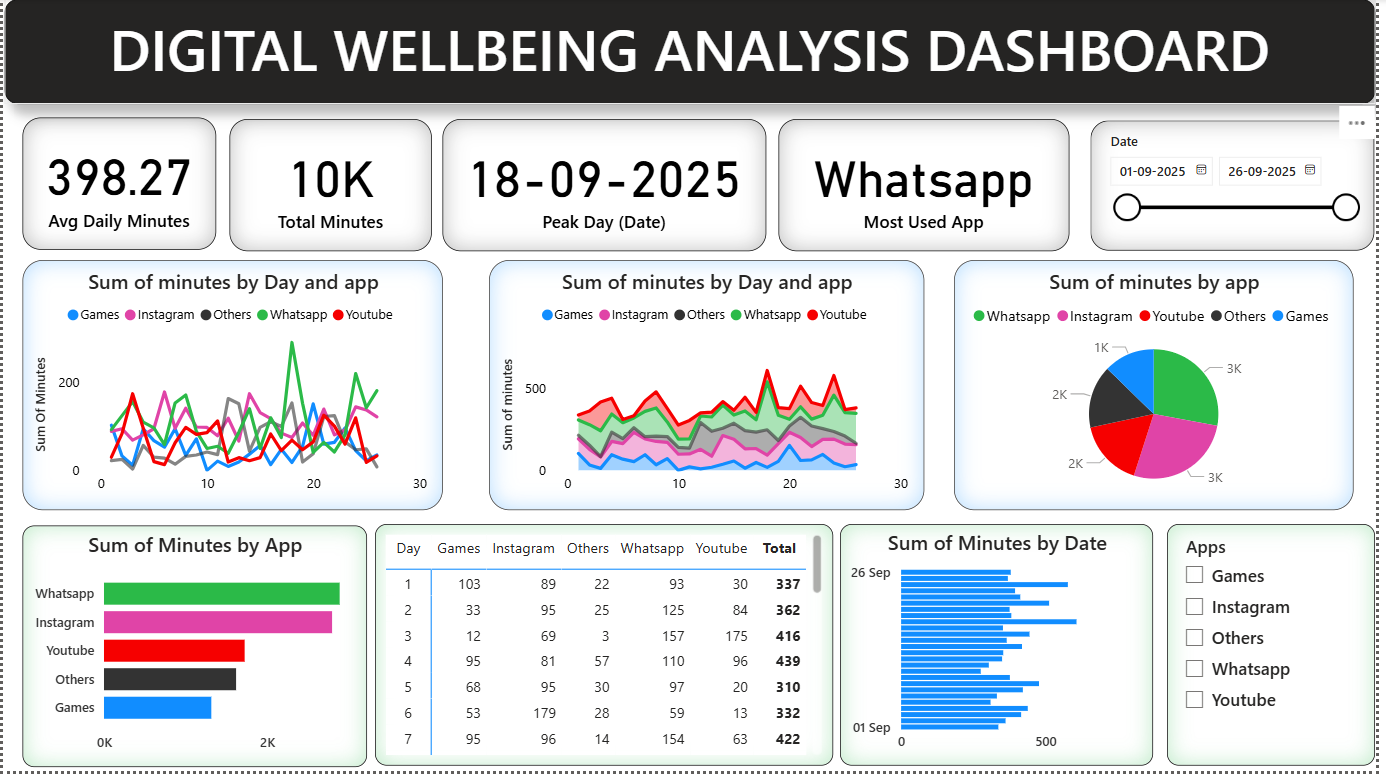

The dashboard page shown, as its layout file describes it:
{"tool":"powerbi","page":{"name":"Page 1","canvas":[1280,720],"ordinal":0},"visuals":[{"type":"card","fields":{"Values":["usage_long.Total Minutes"]},"box":[211.2,111.9,188.9,123.1],"z":0},{"type":"card","fields":{"Values":["usage_long.Avg Daily Minutes"]},"box":[18.2,110.5,180.5,123.1],"z":1000},{"type":"card","fields":{"Values":["usage_long.Most Used App"]},"box":[723.3,111.9,271.4,123.1],"z":2000},{"type":"card","fields":{"Values":["usage_long.Peak Day (Date)"]},"box":[409.9,111.9,302.2,123.1],"z":3000},{"type":"slicer","fields":{"Values":["usage_long.date"]},"box":[1014.5,113.6,265,121.1],"z":4000},{"type":"textbox","box":[1.4,0,1278.7,97.9],"z":5000},{"type":"lineChart","fields":{"Category":["usage_long.date.Variation.Date Hierarchy.Day"],"Series":["usage_long.app"],"Y":["Sum(usage_long.minutes)"]},"box":[18.2,243.8,392.2,233.2],"z":6000},{"type":"stackedAreaChart","fields":{"Category":["usage_long.date.Variation.Date Hierarchy.Day"],"Series":["usage_long.app"],"Y":["Sum(usage_long.minutes)"]},"box":[452.7,243.8,405.8,233.2],"z":7000},{"type":"pieChart","fields":{"Category":["usage_long.app"],"Y":["Sum(usage_long.minutes)"]},"box":[887.3,243.8,372.5,233.2],"z":8000},{"type":"barChart","title":"Sum of Minutes by App","fields":{"Category":["usage_long.app"],"Y":["Sum(usage_long.minutes)"]},"box":[18.2,490.6,321,225.6],"z":9000},{"type":"pivotTable","fields":{"Rows":["usage_long.date.Variation.Date Hierarchy.Day"],"Columns":["usage_long.app"],"Values":["Sum(usage_long.minutes)"]},"box":[346.8,489.1,427,225.6],"z":10000},{"type":"barChart","title":"Sum of Minutes by Date","fields":{"Y":["Sum(usage_long.minutes)"],"Category":["usage_long.date"]},"box":[781.3,489.1,292.2,225.6],"z":11000},{"type":"slicer","fields":{"Values":["usage_long.app"]},"box":[1085.7,489.1,193.8,225.6],"z":12000}]}

Visuals, with their boxes in screenshot pixels (x1, y1, x2, y2), scaled from the page's 1280x720 canvas onto the 1386x774 screenshot:
card - usage_long.Total Minutes: {"x1": 229, "y1": 120, "x2": 433, "y2": 253}
card - usage_long.Avg Daily Minutes: {"x1": 20, "y1": 119, "x2": 215, "y2": 251}
card - usage_long.Most Used App: {"x1": 783, "y1": 120, "x2": 1077, "y2": 253}
card - usage_long.Peak Day (Date): {"x1": 444, "y1": 120, "x2": 771, "y2": 253}
slicer - usage_long.date: {"x1": 1099, "y1": 122, "x2": 1385, "y2": 252}
textbox: {"x1": 2, "y1": 0, "x2": 1385, "y2": 105}
lineChart - usage_long.date.Variation.Date Hierarchy.Day x usage_long.app: {"x1": 20, "y1": 262, "x2": 444, "y2": 513}
stackedAreaChart - usage_long.date.Variation.Date Hierarchy.Day x usage_long.app: {"x1": 490, "y1": 262, "x2": 930, "y2": 513}
pieChart - usage_long.app x Sum(usage_long.minutes): {"x1": 961, "y1": 262, "x2": 1364, "y2": 513}
"Sum of Minutes by App" barChart: {"x1": 20, "y1": 527, "x2": 367, "y2": 770}
pivotTable - usage_long.date.Variation.Date Hierarchy.Day x usage_long.app: {"x1": 376, "y1": 526, "x2": 838, "y2": 768}
"Sum of Minutes by Date" barChart: {"x1": 846, "y1": 526, "x2": 1162, "y2": 768}
slicer - usage_long.app: {"x1": 1176, "y1": 526, "x2": 1385, "y2": 768}
